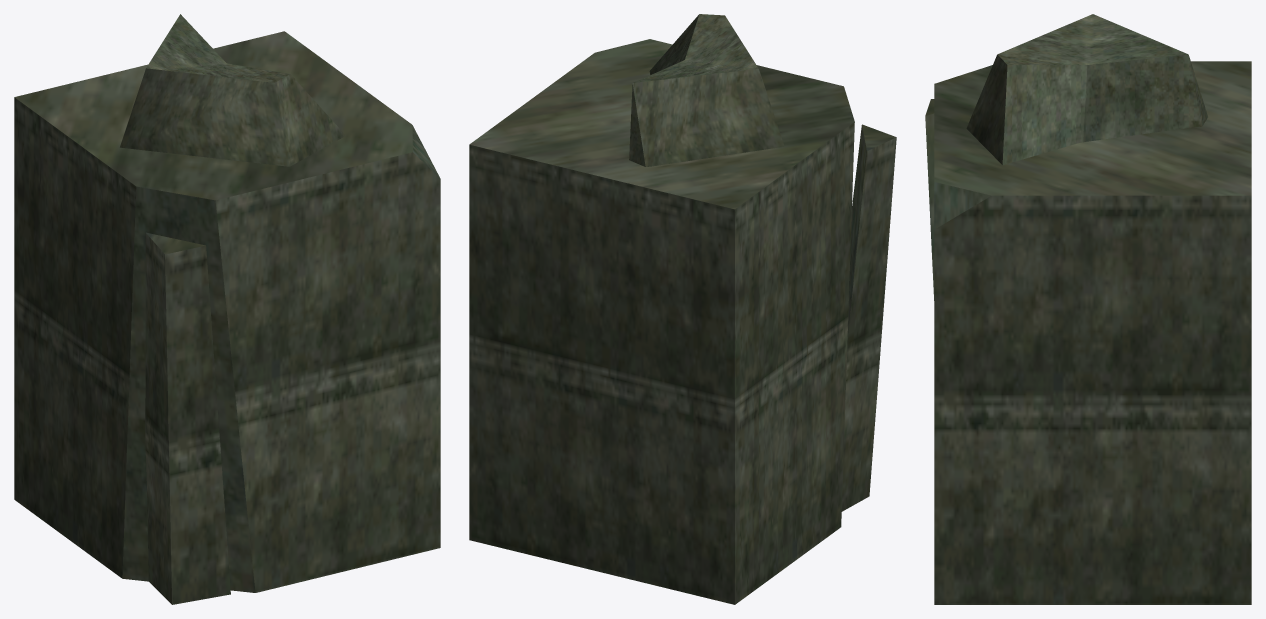
Rendered from thm_dant_jedi_temple_pillar_base_l3.fbx.
The picture shows the model from 3 angles, left to right: view 1: azimuth 30°, elevation 25°; view 2: azimuth 150°, elevation 25°; view 3: azimuth 270°, elevation 25°; orthographic projection. The views are drawn at different scales.
Visible parts, largest first — view 1: mesh_node; view 2: mesh_node; view 3: mesh_node.
Part boxes in pixels (x1,y1,x2,y2): mesh_node: (14,14,440,604); mesh_node: (469,14,896,604); mesh_node: (925,14,1251,604).
Size of the model in its own units: 2.05 by 3.36 by 2.06.
1 material, 1 textured.
